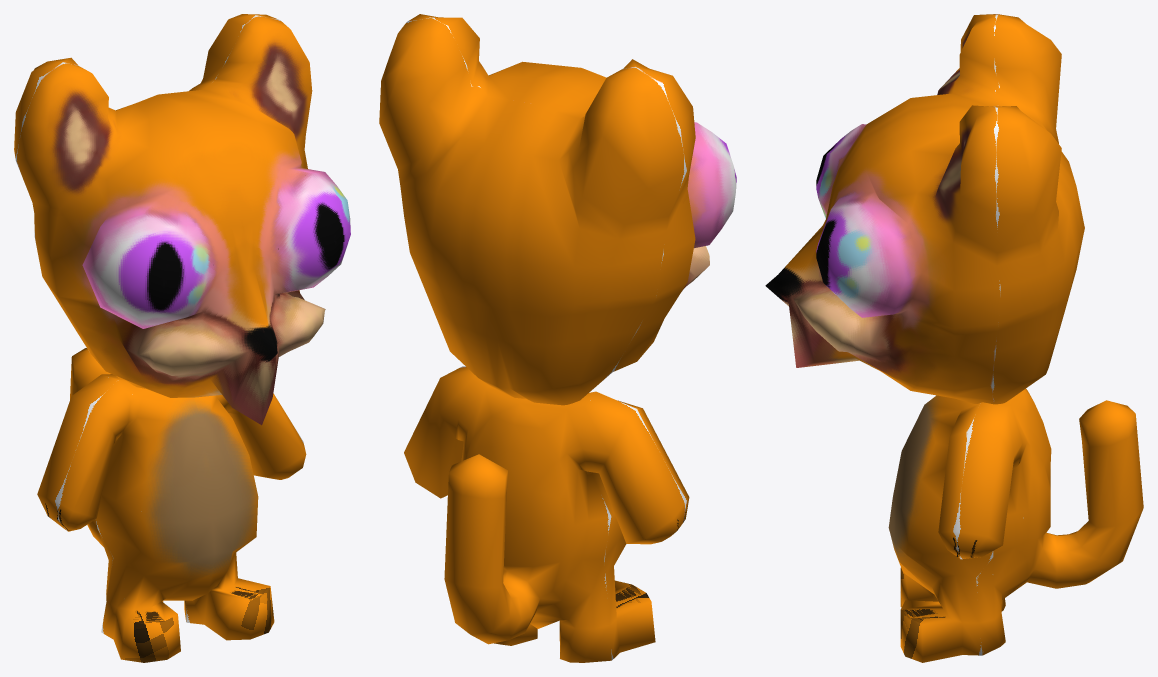
Rendered from gato.glb.
3 renders of one model, left to right at view 1: azimuth 30°, elevation 25°; view 2: azimuth 150°, elevation 25°; view 3: azimuth 270°, elevation 25°, orthographic. The views are drawn at different scales.
Parts seen in each view (by area): view 1: Roundcube, Roundcube.001; view 2: Roundcube, Roundcube.001; view 3: Roundcube, Roundcube.001.
Boxes of the visible parts, x1,y1,x2,y2 form: Roundcube: [14, 14, 350, 425]; Roundcube.001: [37, 348, 306, 662]; Roundcube: [379, 14, 736, 405]; Roundcube.001: [404, 366, 689, 662]; Roundcube: [765, 14, 1084, 404]; Roundcube.001: [888, 388, 1143, 662].
Size of the model in its own units: 2.51 by 4.79 by 2.91.
1 material, 1 textured.
